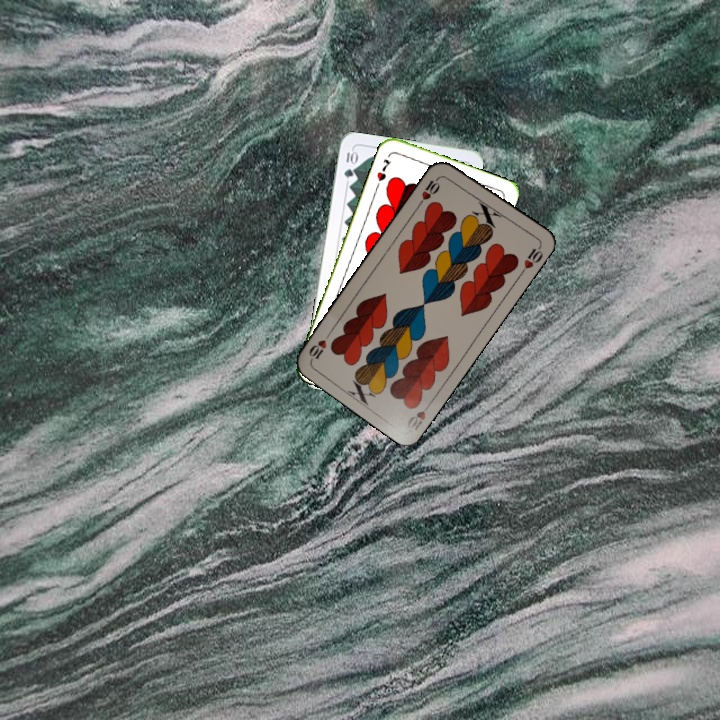G10: (340, 146, 359, 180)
H10: (403, 397, 435, 433), (415, 172, 444, 208)
H7: (373, 155, 393, 184)
